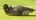goose: (1, 2, 36, 17)
